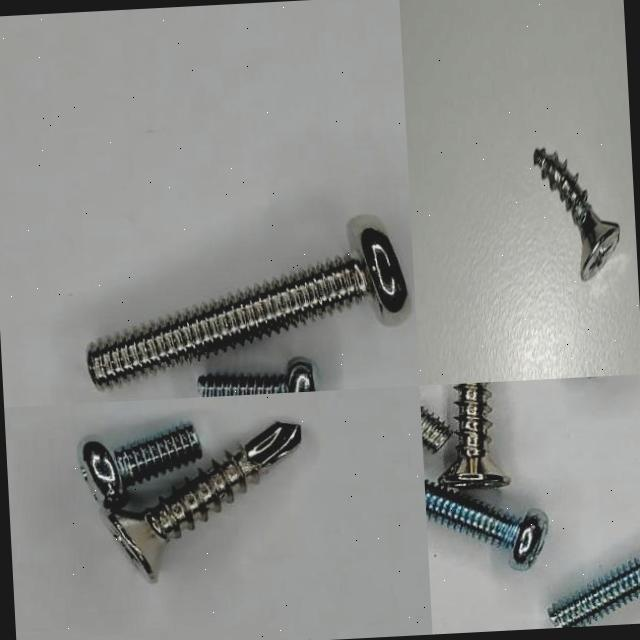Screw: (87, 227, 409, 390), (105, 422, 300, 582), (533, 149, 620, 282), (425, 481, 548, 570), (80, 424, 200, 512), (438, 382, 510, 488), (548, 557, 640, 628), (197, 361, 316, 397), (421, 405, 451, 453)
